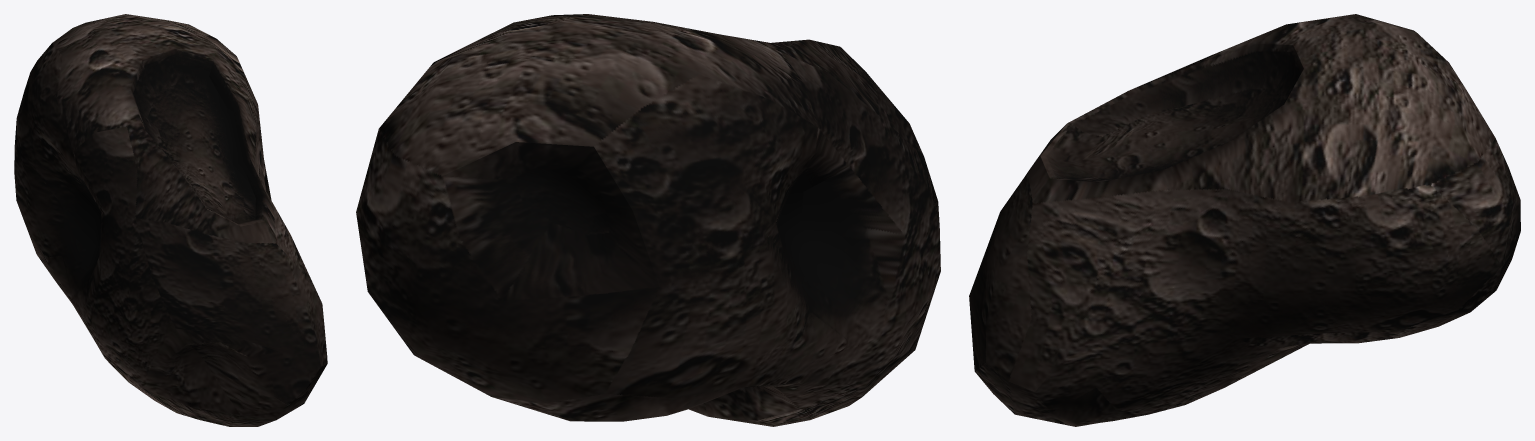
File: Asetroid.fbx
3 views of the same model, side by side, from view 1: azimuth 30°, elevation 25°; view 2: azimuth 150°, elevation 25°; view 3: azimuth 270°, elevation 25° (orthographic). The views are drawn at different scales.
Parts seen in each view (by area): view 1: Icosphere; view 2: Icosphere; view 3: Icosphere.
Boxes of the visible parts, bbox=[...] form: Icosphere: bbox=[14, 14, 327, 426]; Icosphere: bbox=[356, 14, 940, 426]; Icosphere: bbox=[969, 14, 1520, 426].
Size of the model in its own units: 1.42 by 1.78 by 2.34.
1 material, 1 textured.
